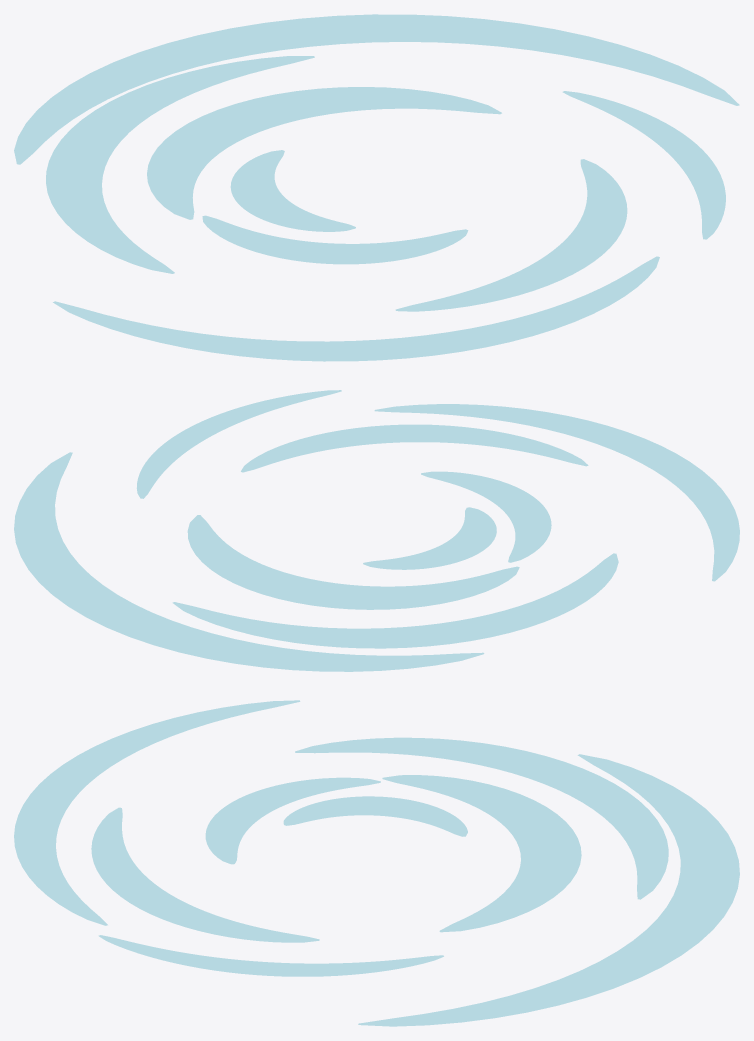
The model's file is ice_circle.glb.
3 views of the same model, one above another, from view 1: azimuth 30°, elevation 25°; view 2: azimuth 150°, elevation 25°; view 3: azimuth 270°, elevation 25° (orthographic). The views are drawn at different scales.
Parts seen in each view (by area): view 1: ice_circle; view 2: ice_circle; view 3: ice_circle.
Boxes of the visible parts, x1=… form: ice_circle: x1=14, y1=14, x2=739, y2=361; ice_circle: x1=14, y1=390, x2=739, y2=671; ice_circle: x1=14, y1=700, x2=739, y2=1026.
Size of the model in its own units: 1.84 by 0.028 by 1.73.
